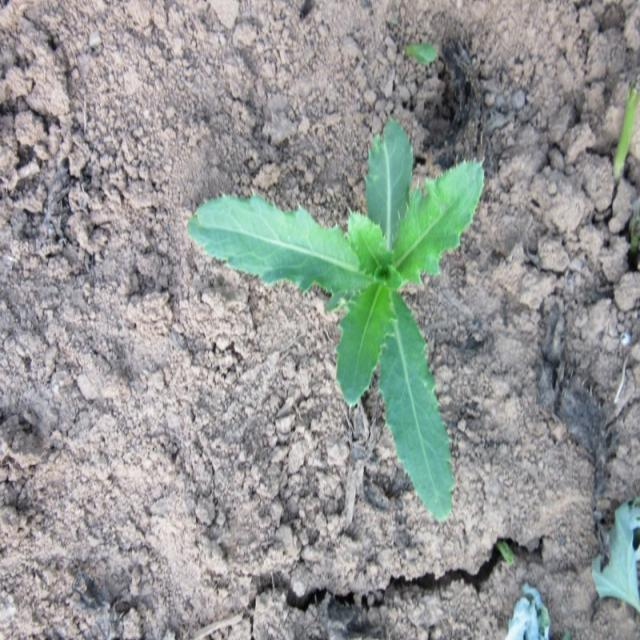cs: (185, 118, 487, 526)
